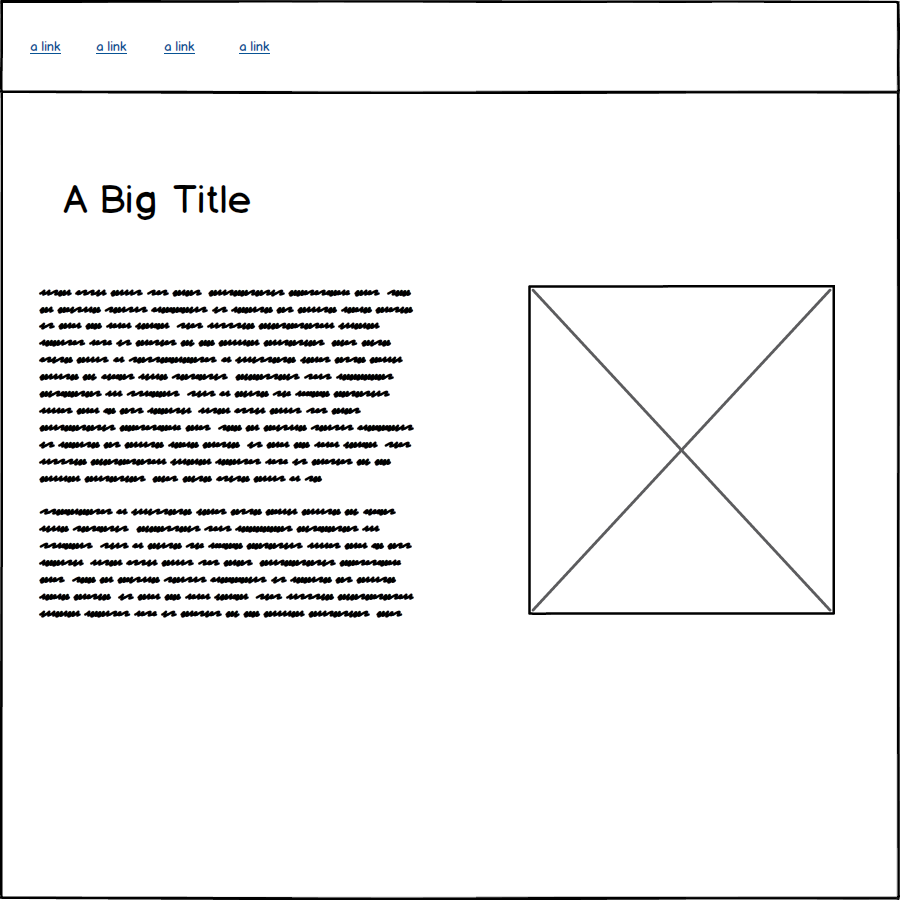h1: (56, 174, 265, 233)
image: (522, 281, 844, 621)
navlink: (156, 30, 204, 64), (230, 32, 278, 63), (89, 33, 135, 63), (22, 32, 68, 59)
p: (38, 281, 419, 622)
